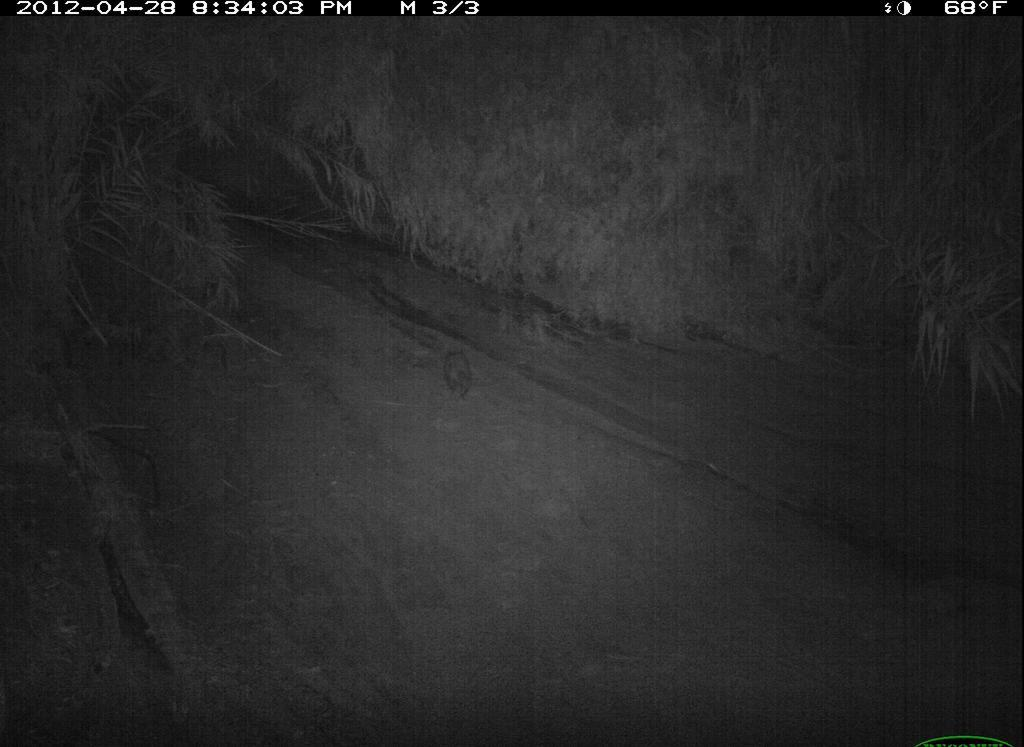opossum: (879, 691, 954, 747)
